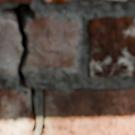brick: (42, 89, 134, 134), (88, 17, 134, 76), (0, 89, 32, 134), (44, 0, 72, 3), (0, 0, 32, 2)
broken_brick: (25, 15, 79, 67), (0, 19, 21, 74)
crack: (0, 2, 36, 132)
